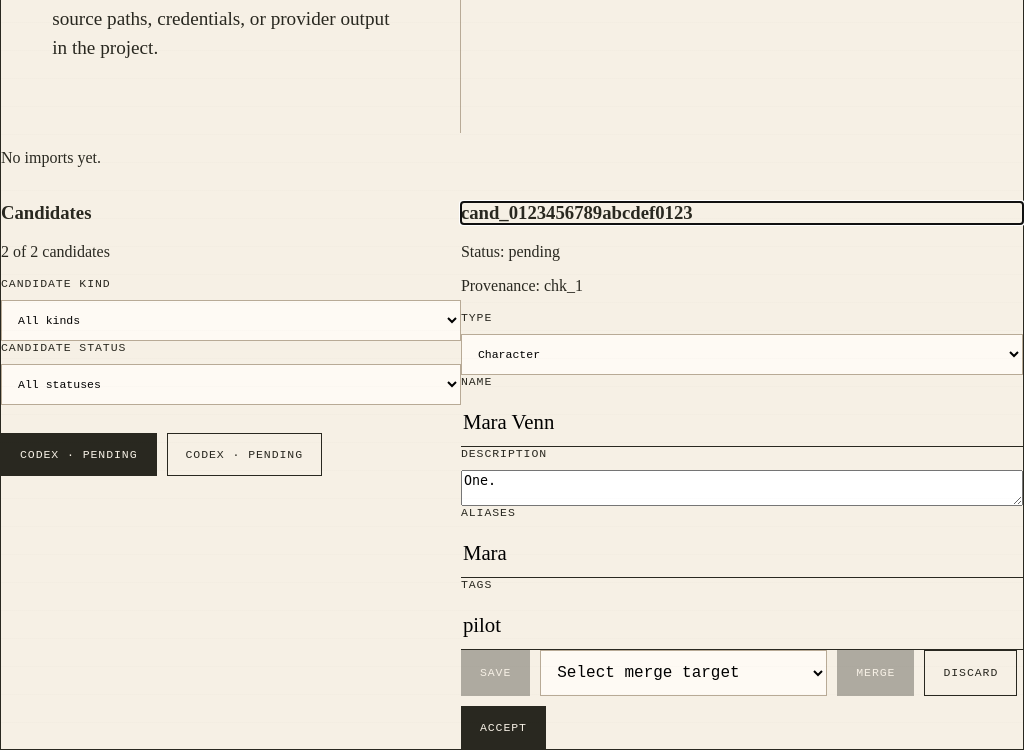
confirms candidate navigation when a draft is dirty
The image size is (1024, 750).
(page scrolled)
Check: the heading "cand_0123456789abcdef0123" is shown, box [461,202,693,223]
Replace the text in the text box named "Candidate description" with "Changed.": (742, 488) [461,470,1023,506]
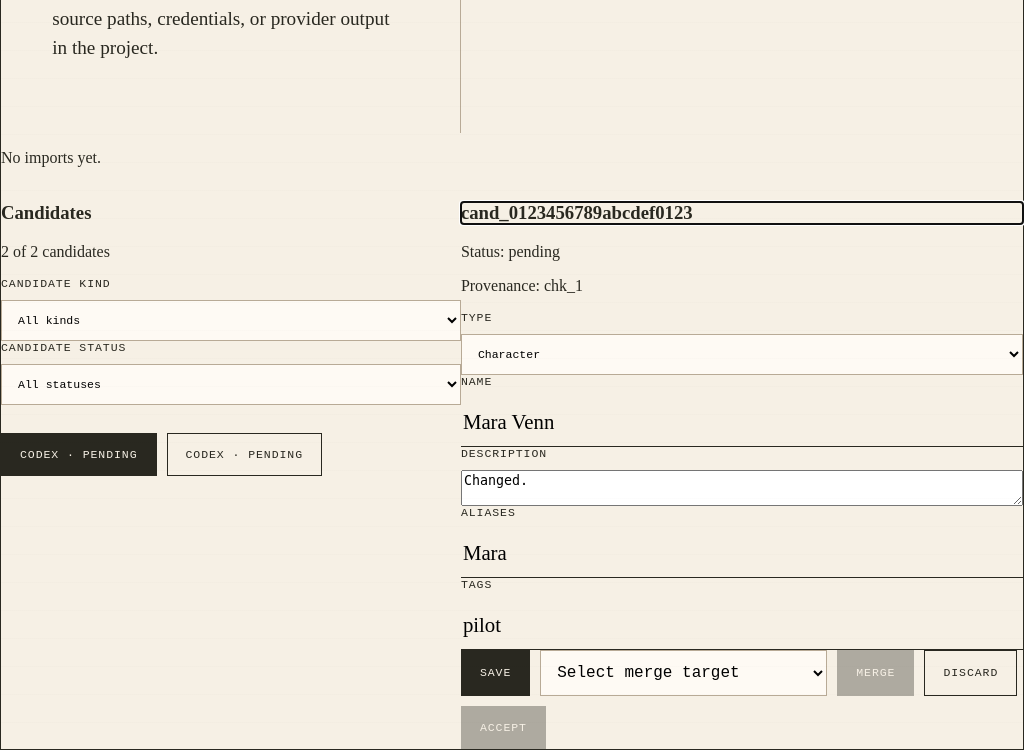
Click the 2nd button "codex · pending": (244, 454) [166,433,322,476]
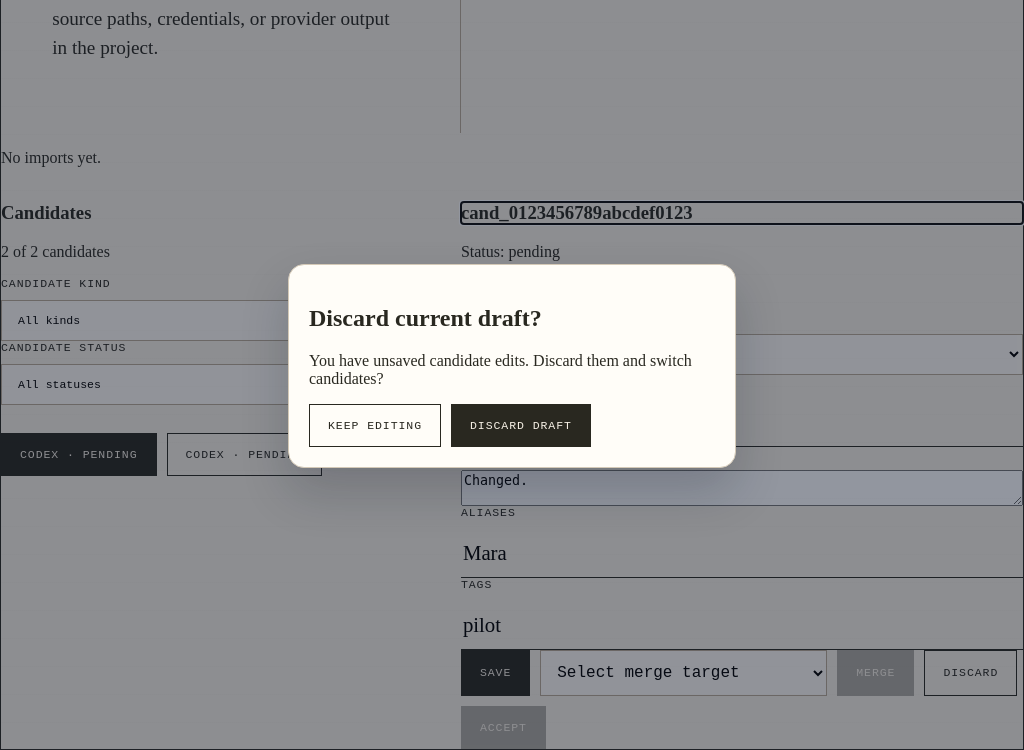
Check: the dialog is shown, box [288,264,736,468]
Click the button "Discard draft": (521, 425) [451,404,591,447]
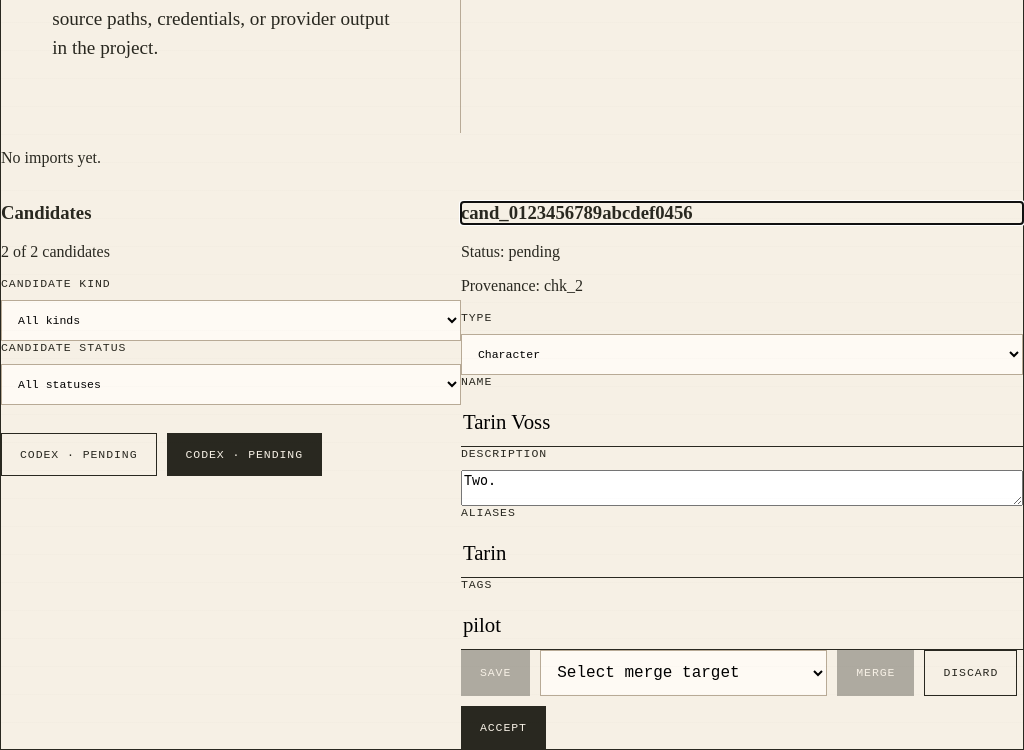
Check: the field showing "Tarin Voss" is shown, box [461,398,1023,447]
